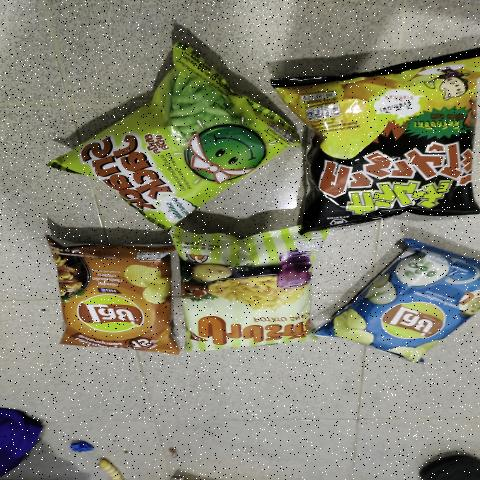karamujo: (318, 54, 480, 216)
lay_blue: (360, 244, 468, 349)
paprika: (193, 239, 303, 350)
snack_jack: (87, 68, 277, 213)
